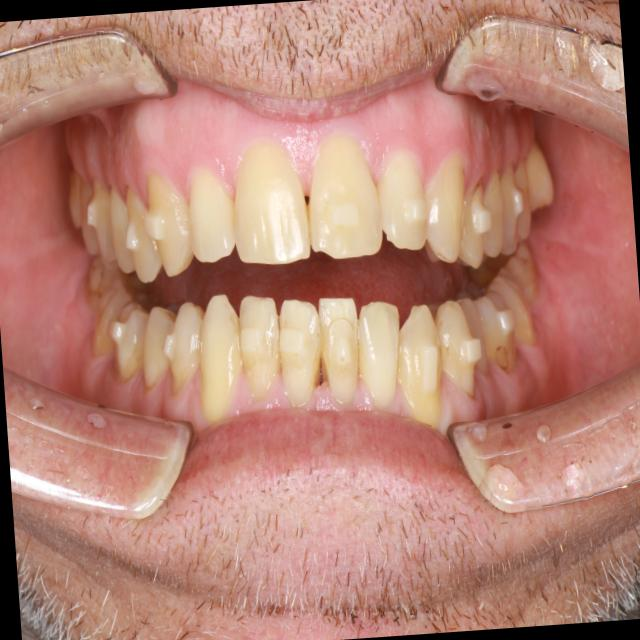tooth: (291, 115, 392, 277), (223, 125, 323, 284), (368, 131, 441, 276), (302, 285, 374, 414), (176, 146, 242, 282), (270, 285, 332, 420), (390, 293, 451, 429), (189, 287, 246, 431), (230, 284, 290, 414), (350, 289, 409, 416), (415, 146, 472, 274), (137, 166, 199, 282), (152, 291, 210, 403), (429, 294, 485, 406), (469, 279, 527, 387), (120, 176, 167, 295), (486, 268, 545, 360), (133, 303, 183, 399), (453, 168, 497, 274), (82, 278, 133, 367), (99, 177, 141, 285), (105, 295, 151, 391), (453, 292, 498, 387), (489, 149, 527, 261), (81, 163, 118, 269), (518, 138, 563, 222), (496, 234, 546, 309), (477, 157, 509, 267), (70, 166, 104, 265), (505, 153, 538, 249), (79, 247, 125, 314), (57, 154, 86, 238)
